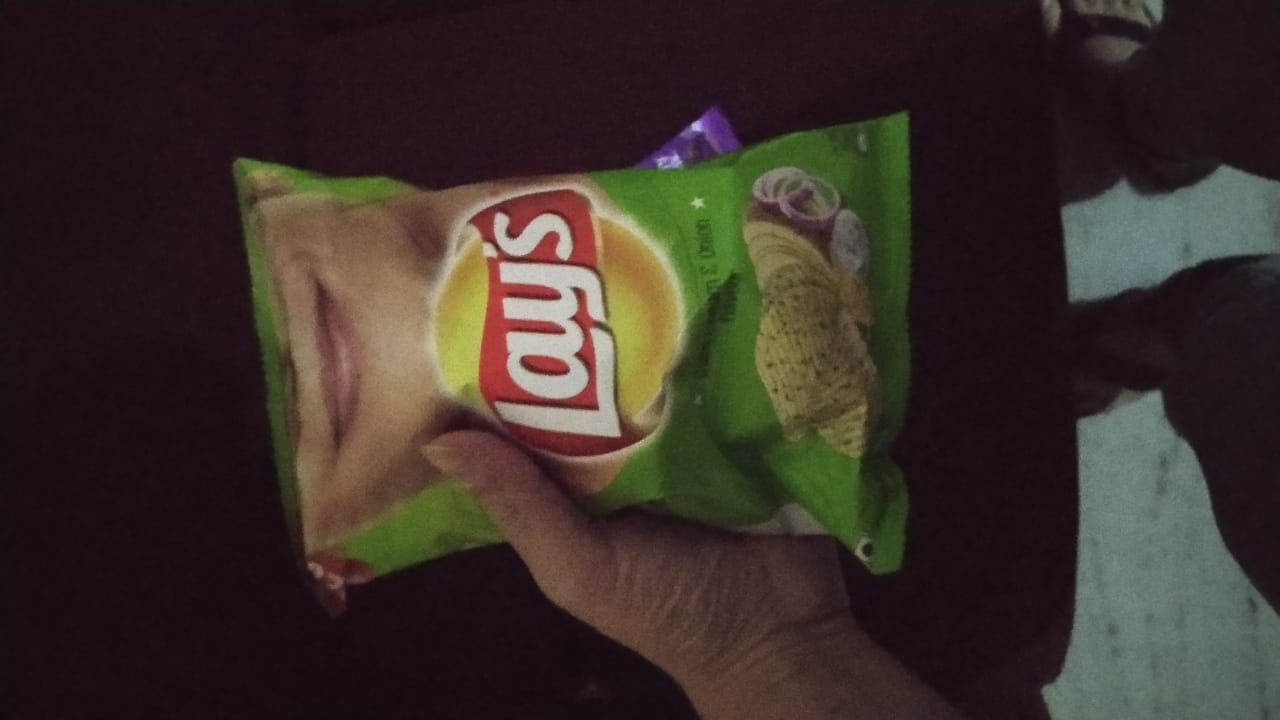lays chips: (222, 114, 932, 590)
